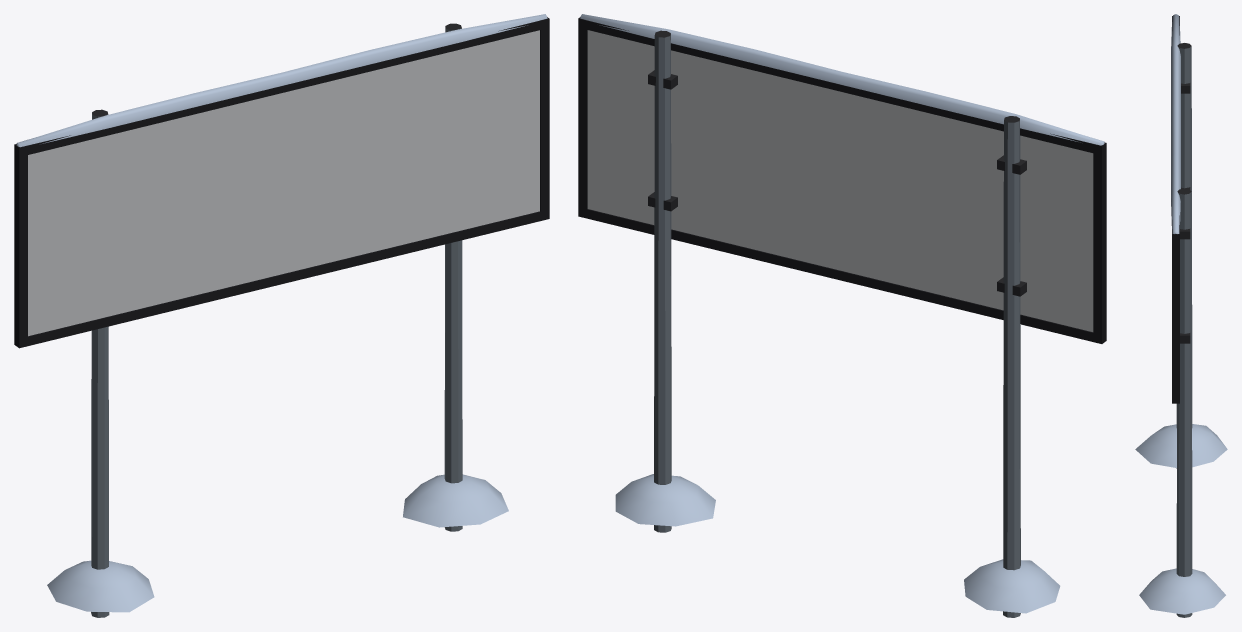
Rendered from sign_road.glb.
The picture shows the model from 3 angles, left to right: view 1: azimuth 30°, elevation 25°; view 2: azimuth 150°, elevation 25°; view 3: azimuth 270°, elevation 25°; orthographic projection. The views are drawn at different scales.
Visible parts, largest first — view 1: Panel, Prop; view 2: Panel, Prop; view 3: Prop.
Part boxes in pixels (<box>): Panel: <box>28,30,539,336</box>; Prop: <box>14,14,549,617</box>; Panel: <box>587,30,1093,331</box>; Prop: <box>578,14,1106,617</box>; Prop: <box>1135,14,1227,617</box>.
Bounding box in the file's own units: 3.6 × 3.27 × 0.6449.
